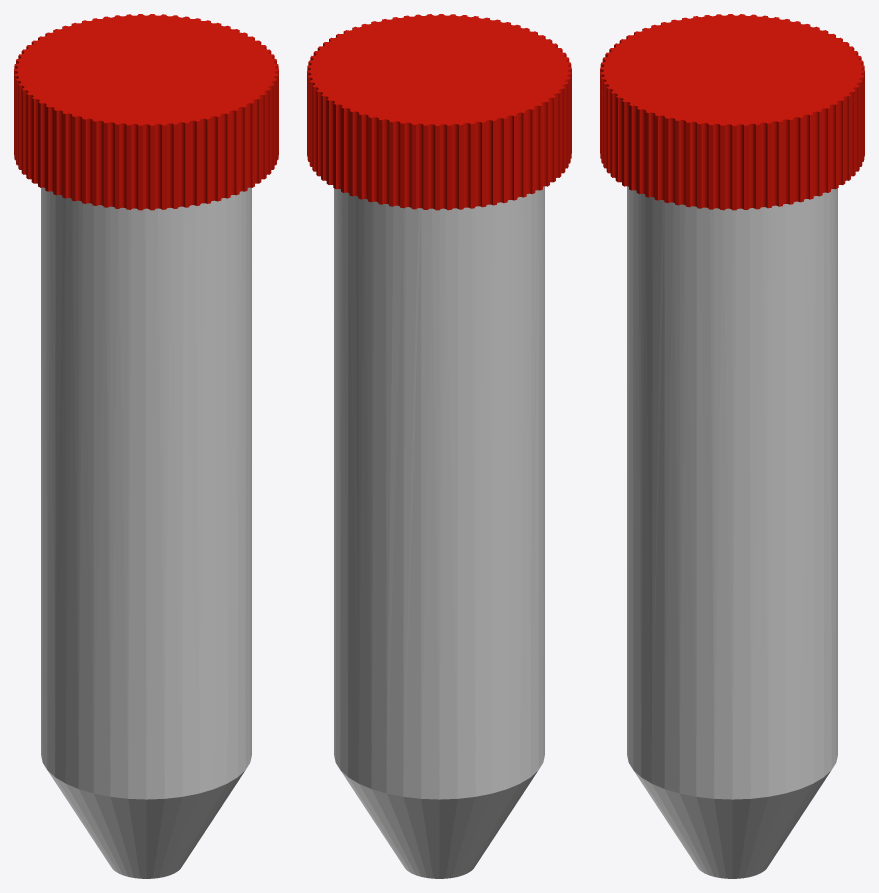
3 views of the same model, side by side, from view 1: azimuth 30°, elevation 25°; view 2: azimuth 150°, elevation 25°; view 3: azimuth 270°, elevation 25° (orthographic).
Parts seen in each view (by area): view 1: centrifuge_tube_50ml_body, centrifuge_tube_50ml_cap; view 2: centrifuge_tube_50ml_body, centrifuge_tube_50ml_cap; view 3: centrifuge_tube_50ml_body, centrifuge_tube_50ml_cap.
Part boxes in pixels (x1,y1,x2,y2): centrifuge_tube_50ml_body: (41, 187, 251, 878); centrifuge_tube_50ml_cap: (14, 14, 278, 210); centrifuge_tube_50ml_body: (334, 186, 544, 878); centrifuge_tube_50ml_cap: (307, 14, 571, 210); centrifuge_tube_50ml_body: (627, 186, 837, 878); centrifuge_tube_50ml_cap: (600, 14, 864, 210).
Size of the model in its own units: 0.0351 by 0.116 by 0.0351.
